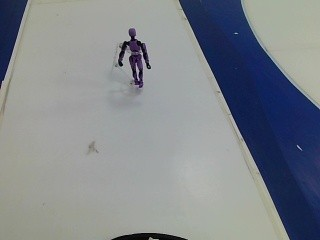pedestrian: (109, 21, 155, 95)
